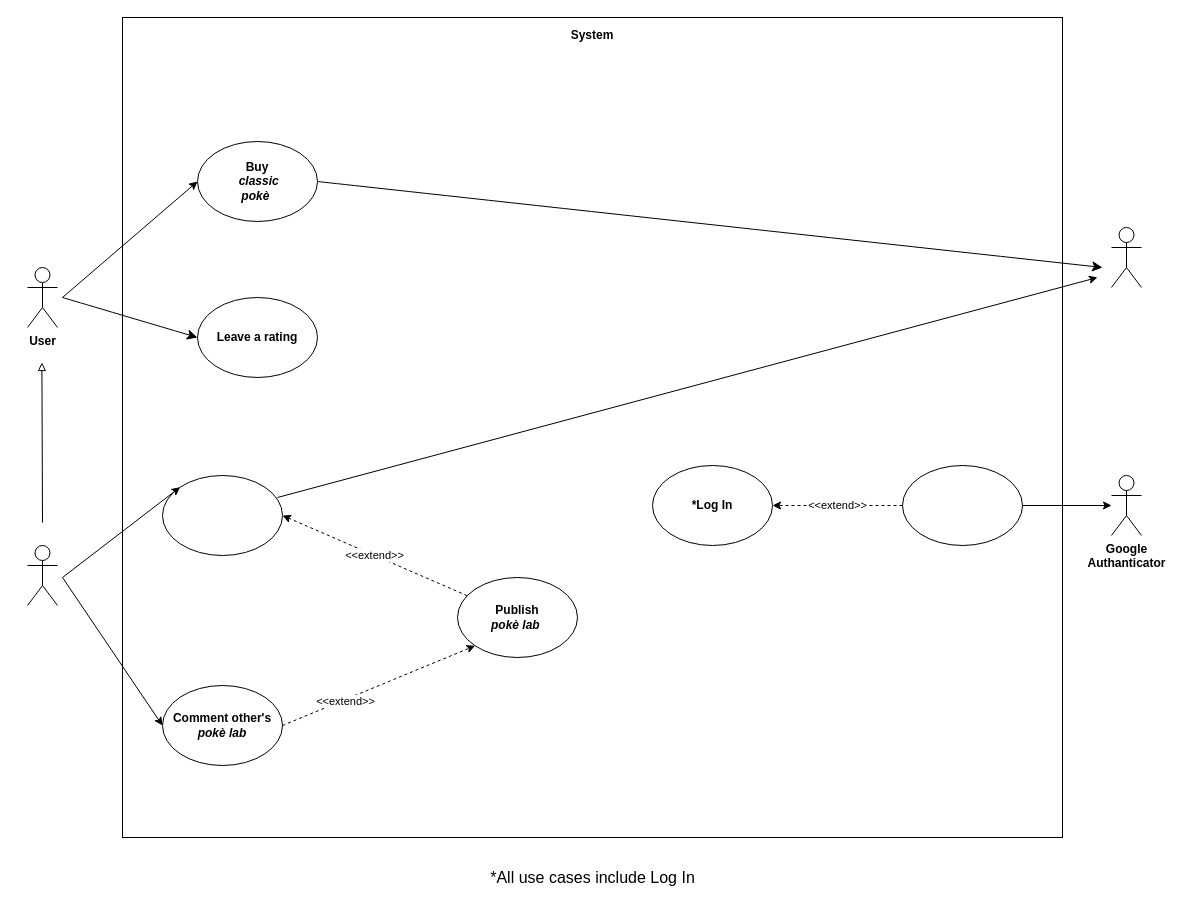
This 1189x915 diagram has some shape labels left out. Each missing label, with the centre of its shape:
Buy pokè lab: pixel 222 515
Google Log In: pixel 962 505
Pokè restaurant: pixel 1126 257
Premium User: pixel 42 575
